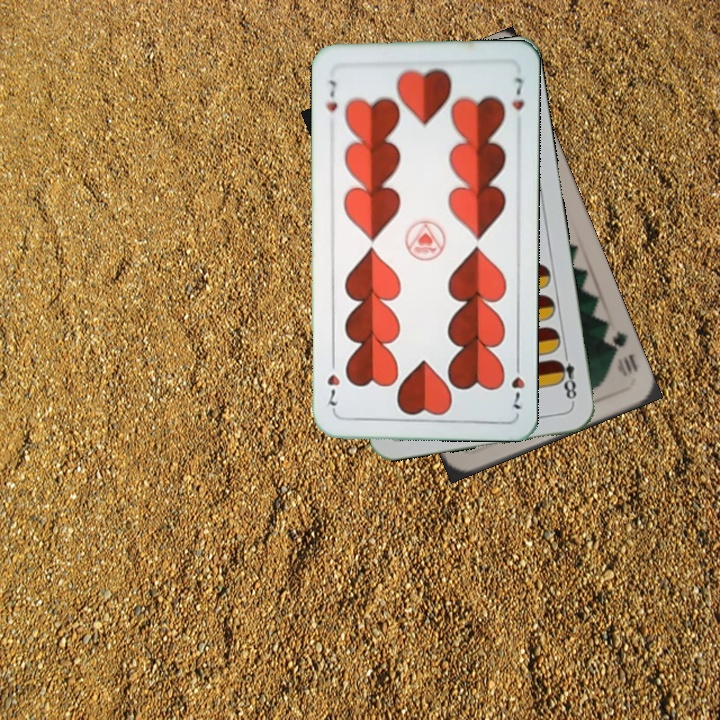E8: (552, 347, 579, 406)
G10: (602, 326, 641, 379)
H7: (507, 356, 527, 412), (322, 75, 340, 114)
